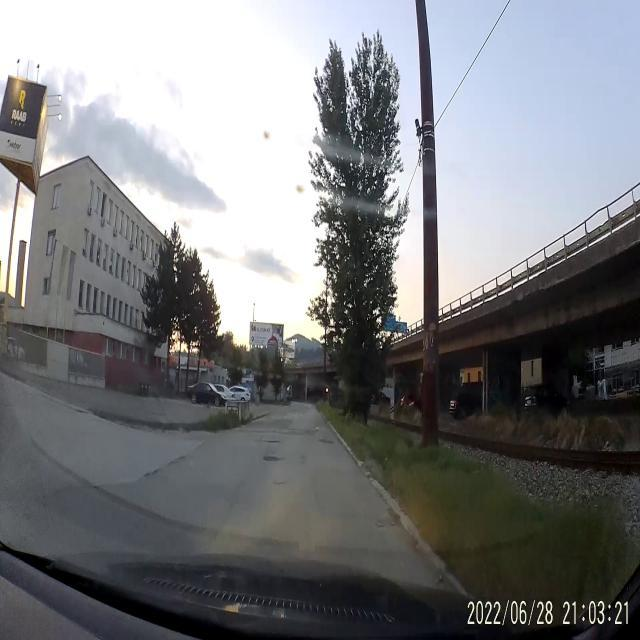Manhole: (375, 517, 396, 528), (316, 436, 334, 446)
Pothole: (258, 452, 284, 466), (262, 438, 282, 447), (272, 478, 287, 486)
